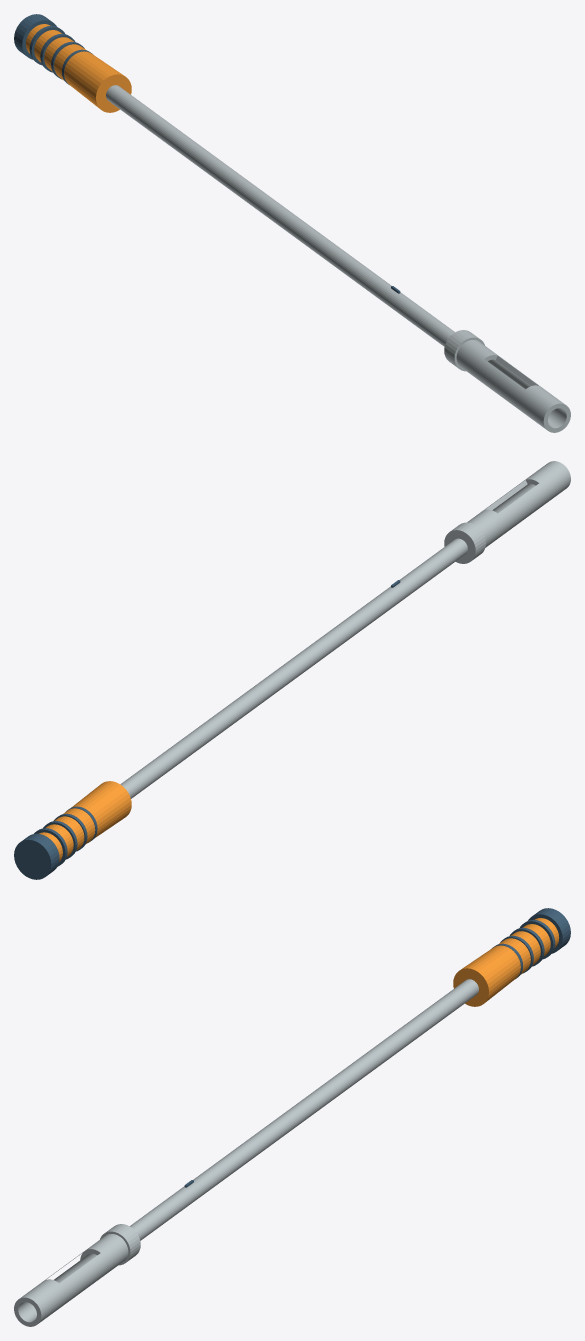
The model's file is container-inspection-and-customs-yard-container-inspec-4c0c4b5c__29287.glb.
The picture shows the model from 3 angles, top to bottom: view 1: azimuth 30°, elevation 25°; view 2: azimuth 150°, elevation 25°; view 3: azimuth 330°, elevation 25°; orthographic projection.
Visible parts, largest first — view 1: container-inspection-and-customs-yard-sampling-probe; view 2: container-inspection-and-customs-yard-sampling-probe; view 3: container-inspection-and-customs-yard-sampling-probe.
Boxes of the visible parts, x1=… form: container-inspection-and-customs-yard-sampling-probe: x1=14, y1=14, x2=570, y2=432; container-inspection-and-customs-yard-sampling-probe: x1=14, y1=461, x2=570, y2=879; container-inspection-and-customs-yard-sampling-probe: x1=14, y1=908, x2=570, y2=1326.
Bounding box in the file's own units: 0.052 × 0.052 × 1.27.
